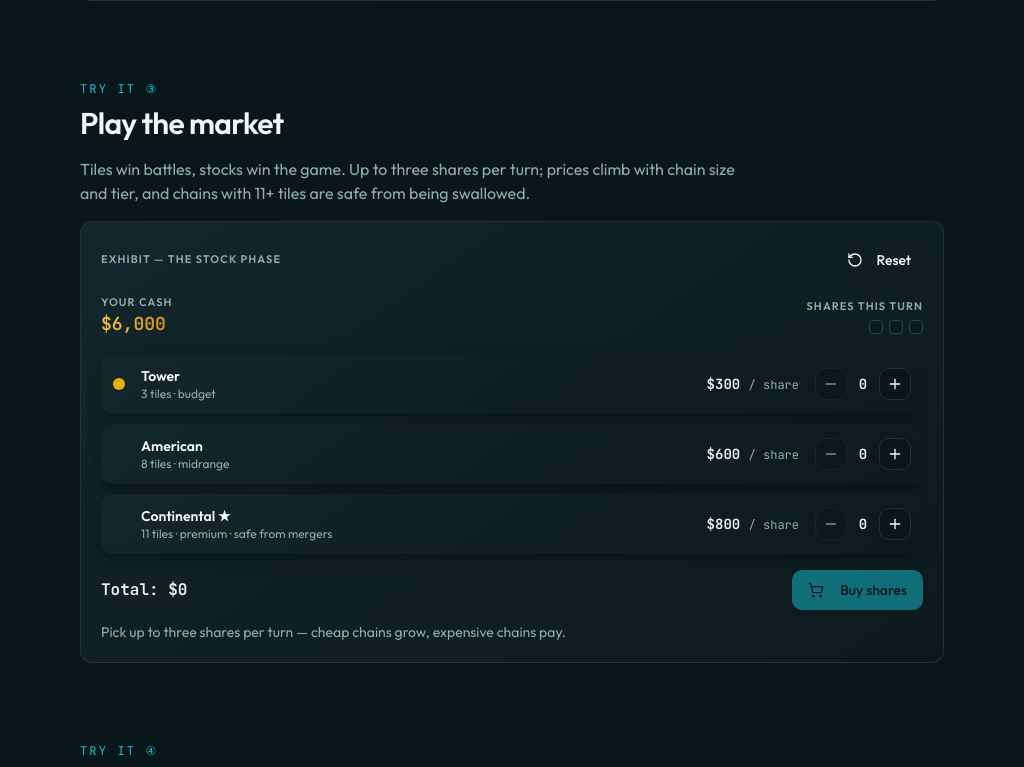
Test: CaseStudy page › stock exhibit: enforces the 3-share limit and updates cash on purchase
(page scrolled)
Click the button named "Add one Tower share" at (895, 384), box [879, 368, 911, 400]
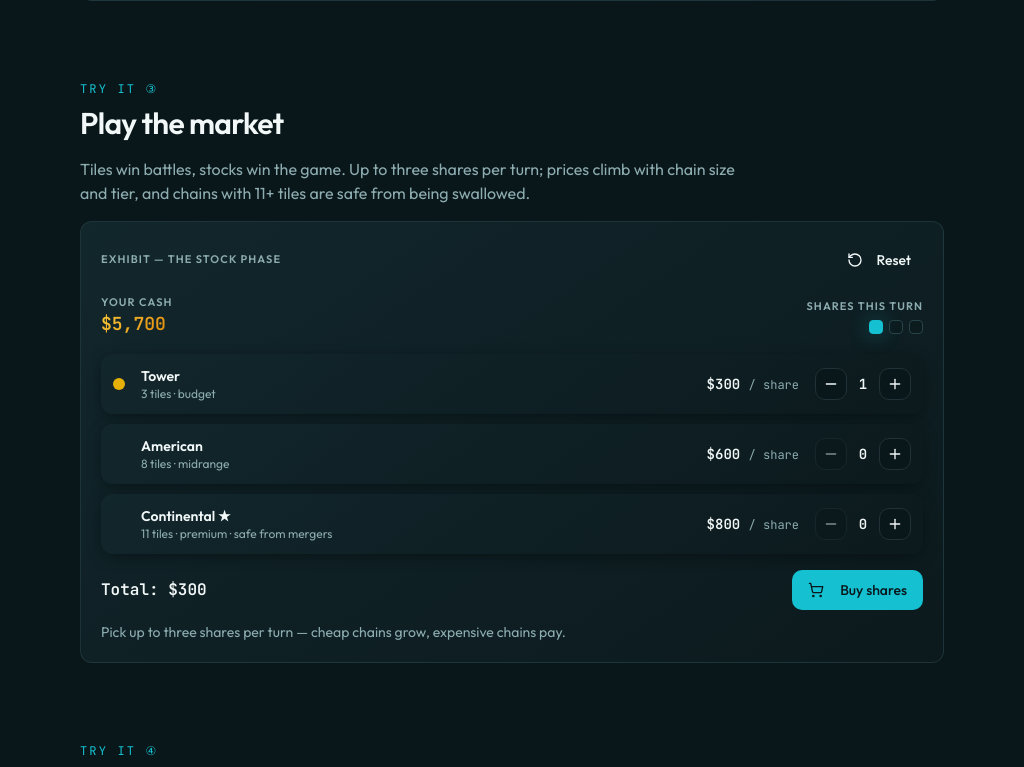
Click the button named "Add one Tower share" at (895, 384), box [879, 368, 911, 400]
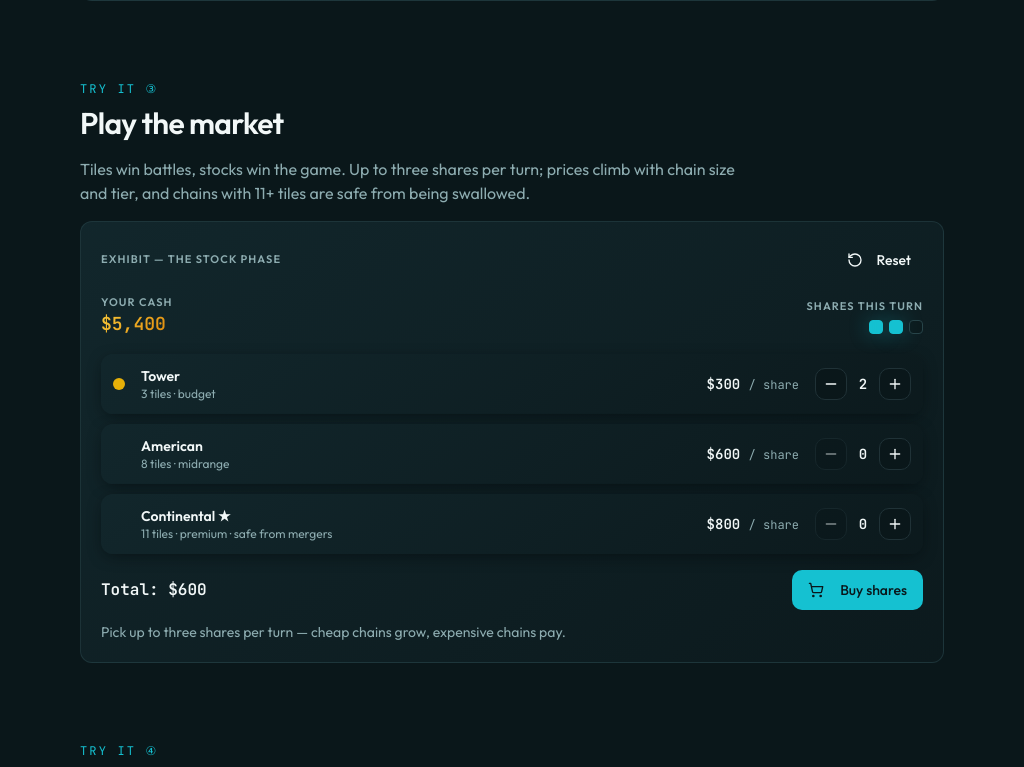
Click the button named "Add one Tower share" at (895, 384), box [879, 368, 911, 400]
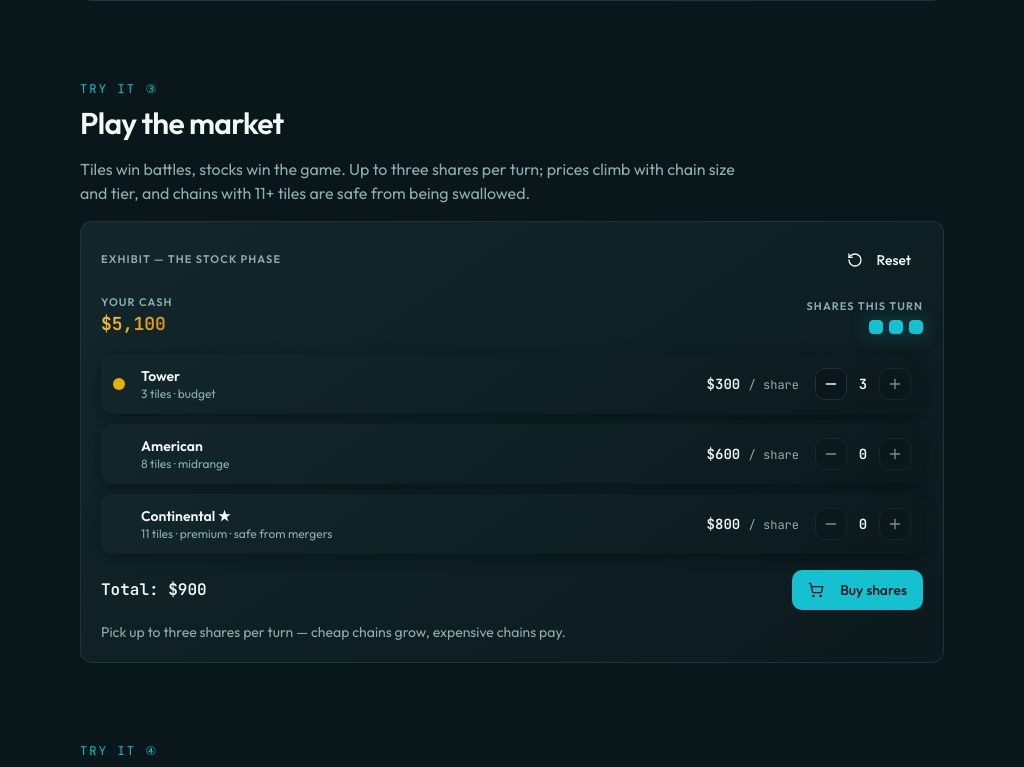
Expected: the button named "Add one Tower share" is disabled, [879, 368, 911, 400]
Expected: the button named "Add one American share" is disabled, [879, 438, 911, 470]
Expected: the text "Total: $900" is shown, [101, 578, 207, 602]
Click the button "Buy shares" at (858, 590), box [792, 570, 923, 610]
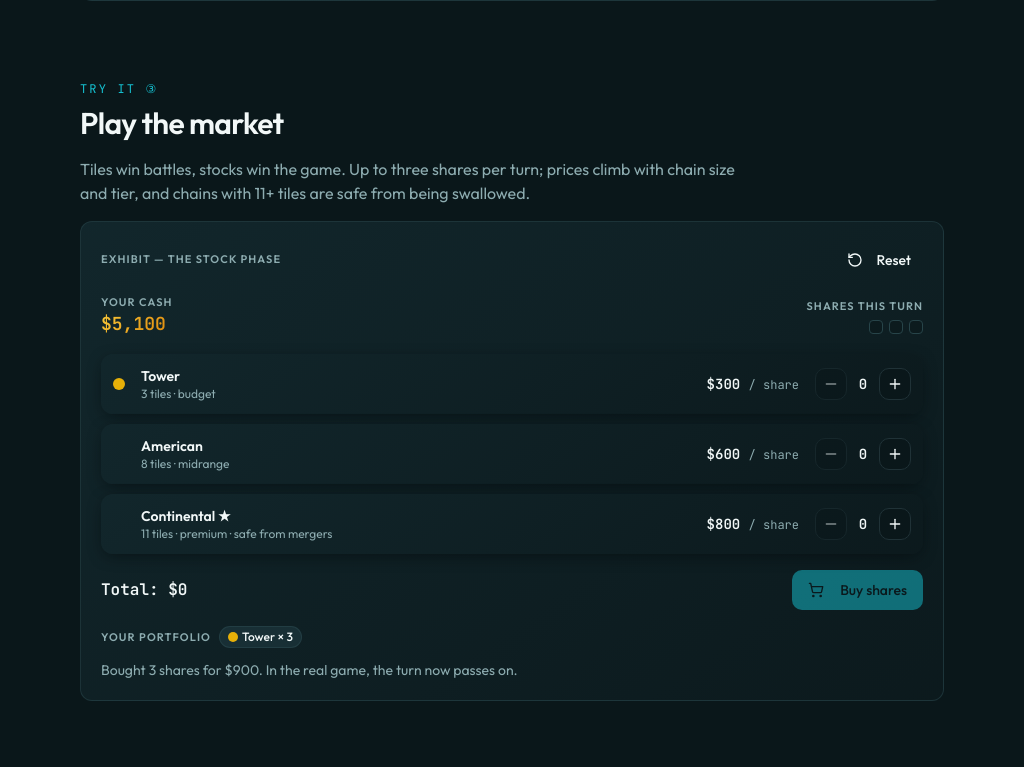
Expected: the text "$5,100" is shown, [101, 310, 173, 338]
Expected: the text "Tower × 3" is shown, [219, 626, 302, 648]
